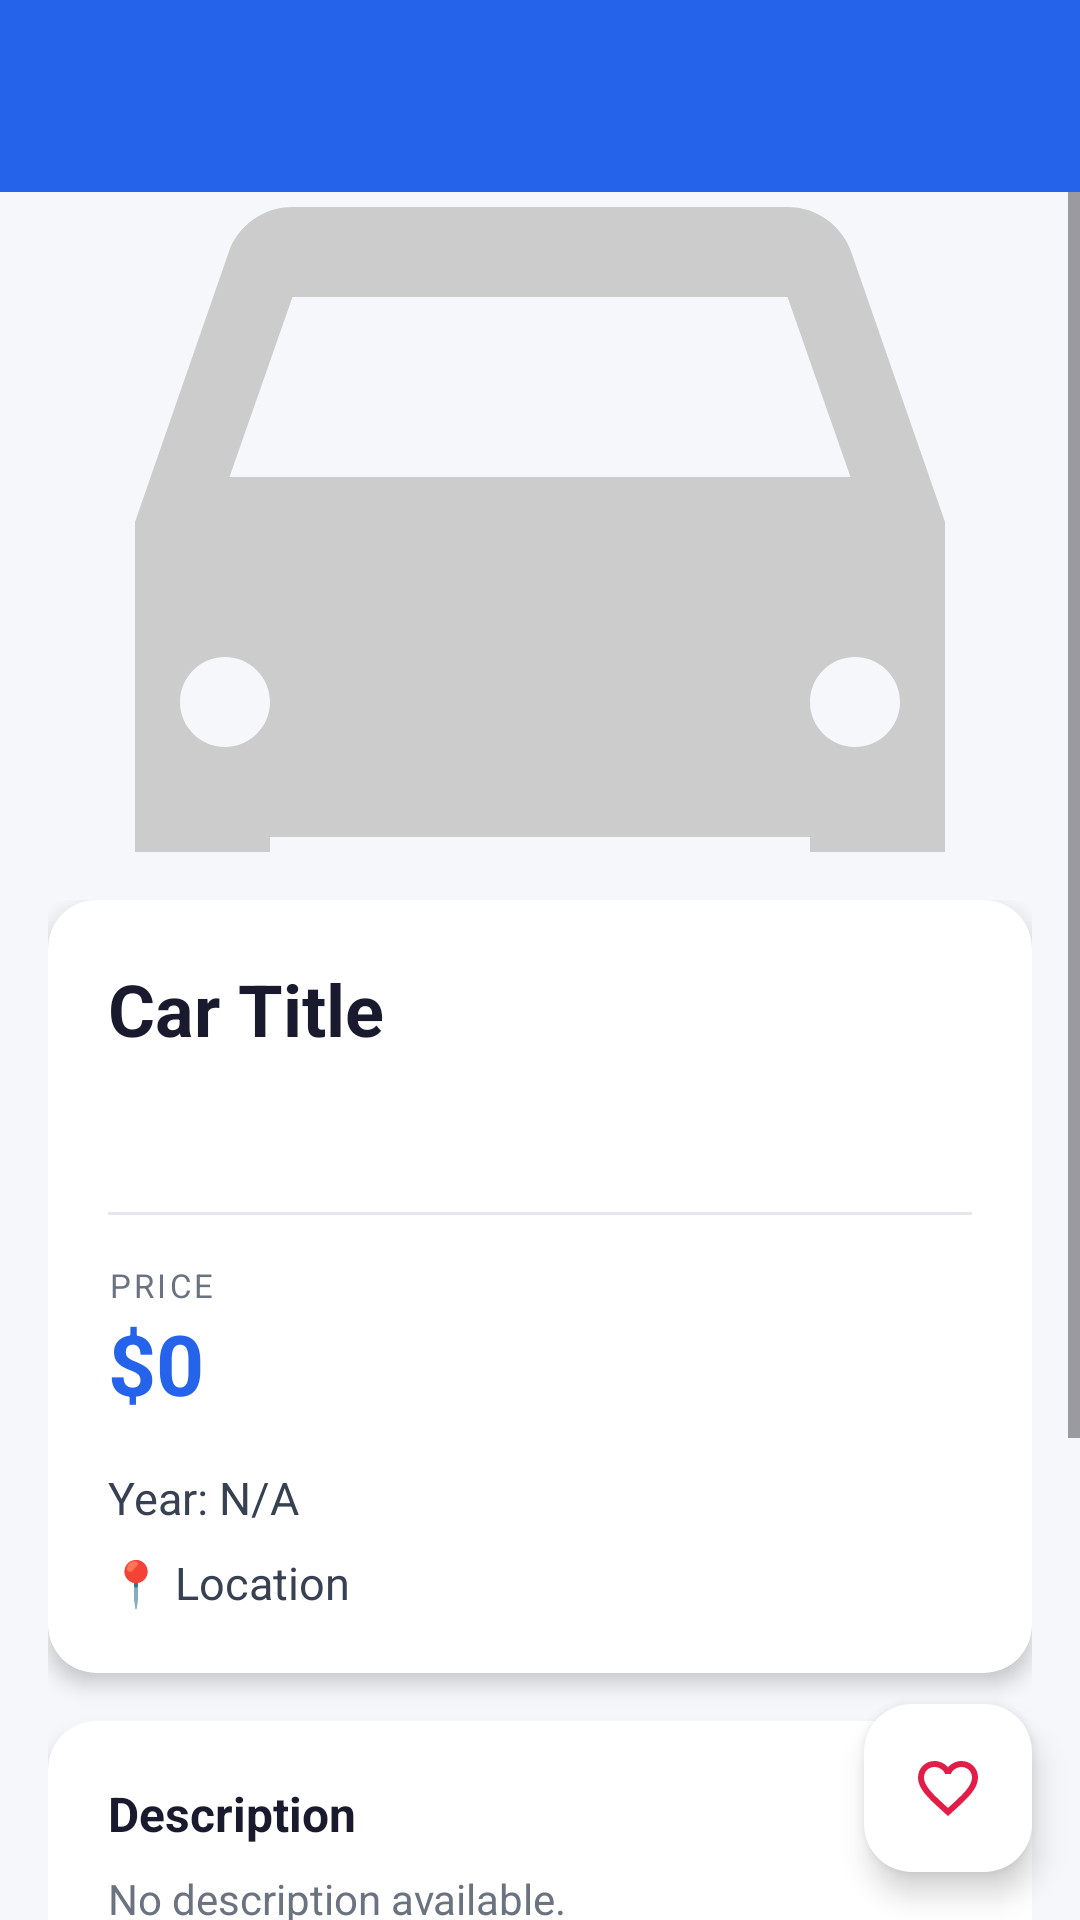

Where icons sit on this 1080 × 1920 app screen, as rect(x1, y1, x2, y2):
Favorite: rect(864, 1704, 1032, 1872)
